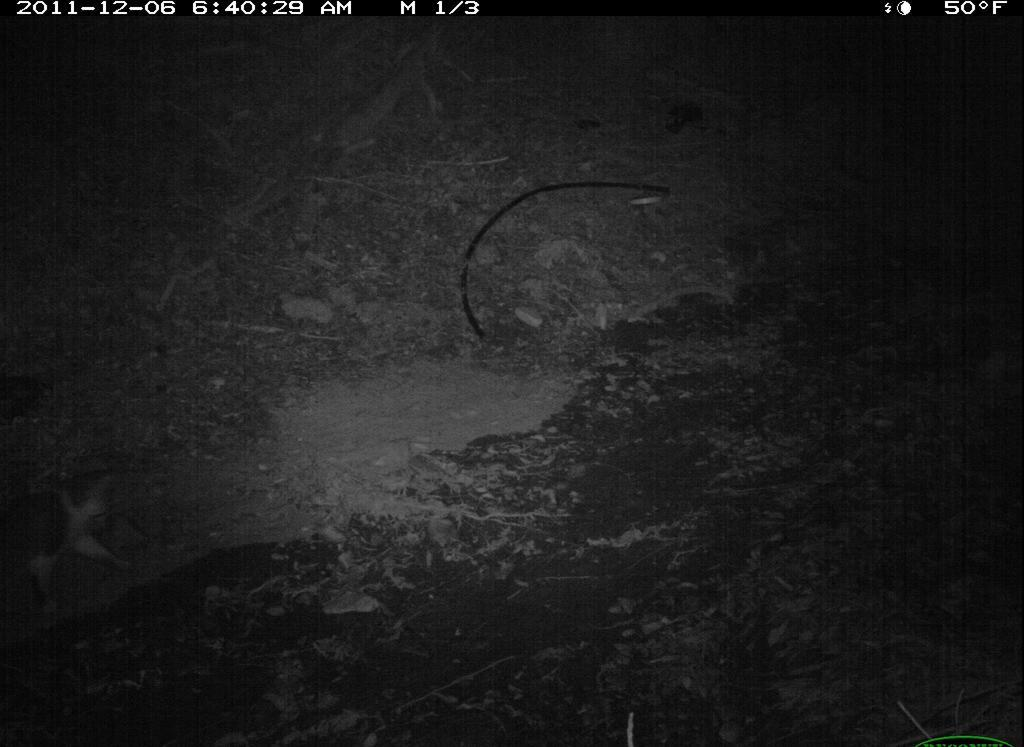cat: (1, 455, 140, 623)
